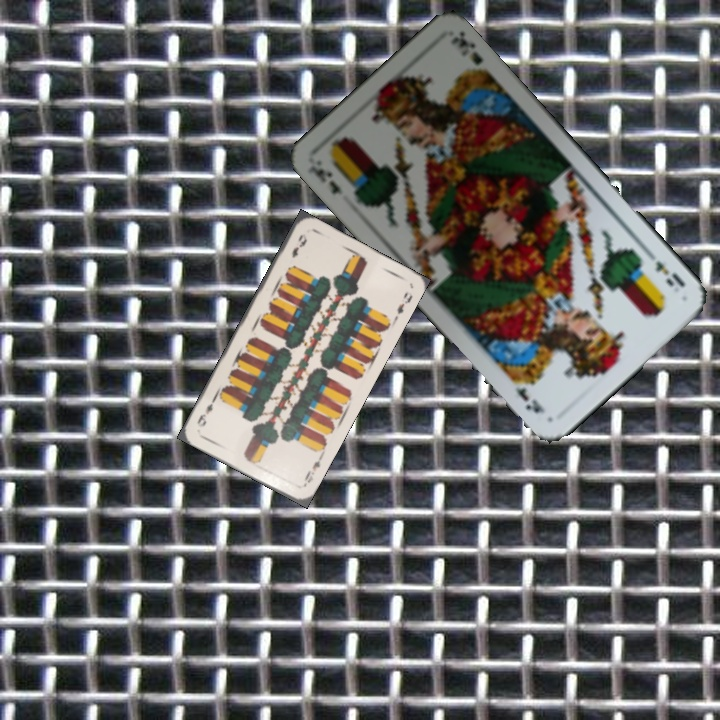E9: (299, 451, 325, 489), (288, 229, 310, 260)
EK: (304, 161, 346, 197), (650, 256, 688, 291)
